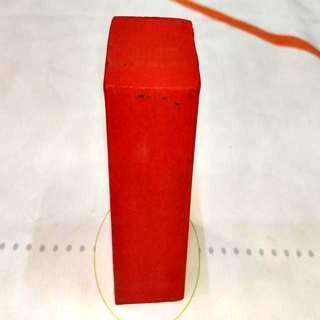redbox: (103, 14, 201, 300)
